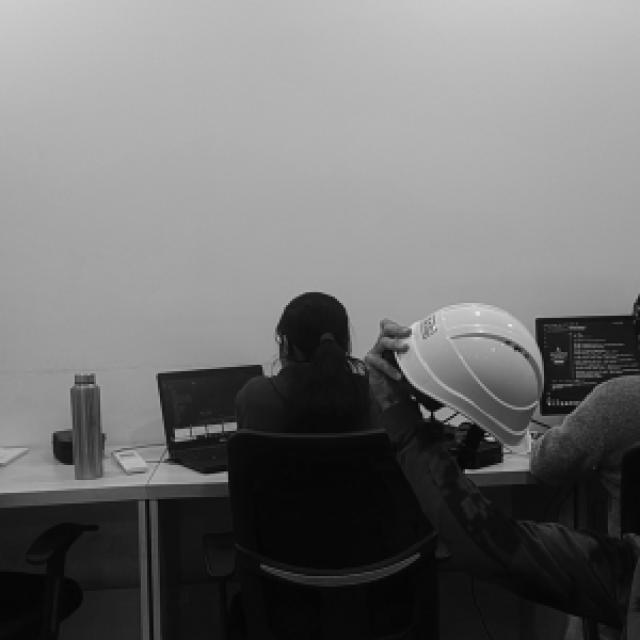safety_helmet: (394, 303, 545, 456)
